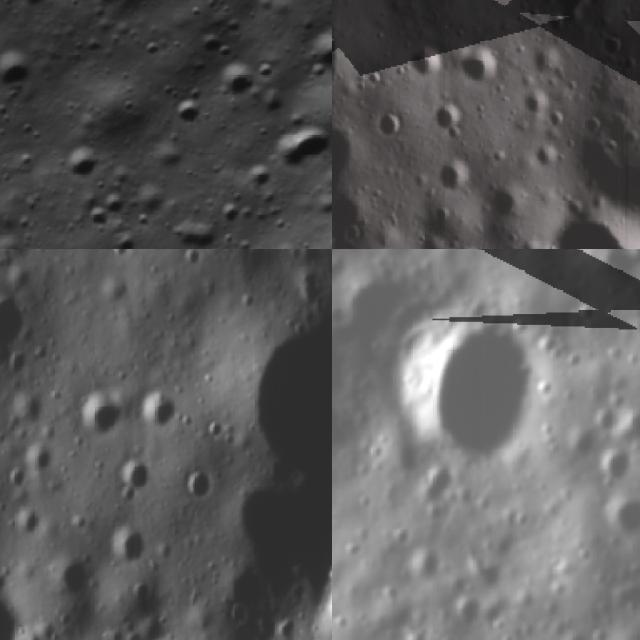crater: (390, 301, 552, 467), (238, 303, 332, 484), (256, 105, 332, 197), (202, 44, 270, 113), (550, 199, 640, 249), (0, 34, 51, 109), (52, 137, 106, 190), (162, 89, 216, 141), (291, 24, 332, 92), (76, 390, 130, 440), (112, 448, 155, 506), (401, 545, 455, 588), (593, 493, 640, 542), (50, 556, 93, 609), (452, 44, 502, 88), (0, 292, 29, 361), (235, 157, 280, 201), (594, 445, 640, 488), (430, 94, 468, 142), (487, 185, 525, 230), (94, 184, 134, 224), (142, 391, 179, 433), (74, 195, 113, 234), (112, 524, 146, 566), (588, 405, 625, 440), (21, 440, 54, 478), (408, 46, 442, 81), (438, 156, 469, 194), (9, 394, 41, 430), (101, 224, 147, 249), (8, 509, 42, 541), (546, 0, 597, 21), (523, 88, 552, 119), (534, 145, 566, 173), (534, 49, 564, 78), (185, 474, 216, 502), (12, 621, 53, 640), (622, 404, 640, 447), (375, 116, 402, 139), (0, 249, 42, 263), (602, 37, 624, 61), (523, 239, 560, 249), (554, 249, 579, 255)
